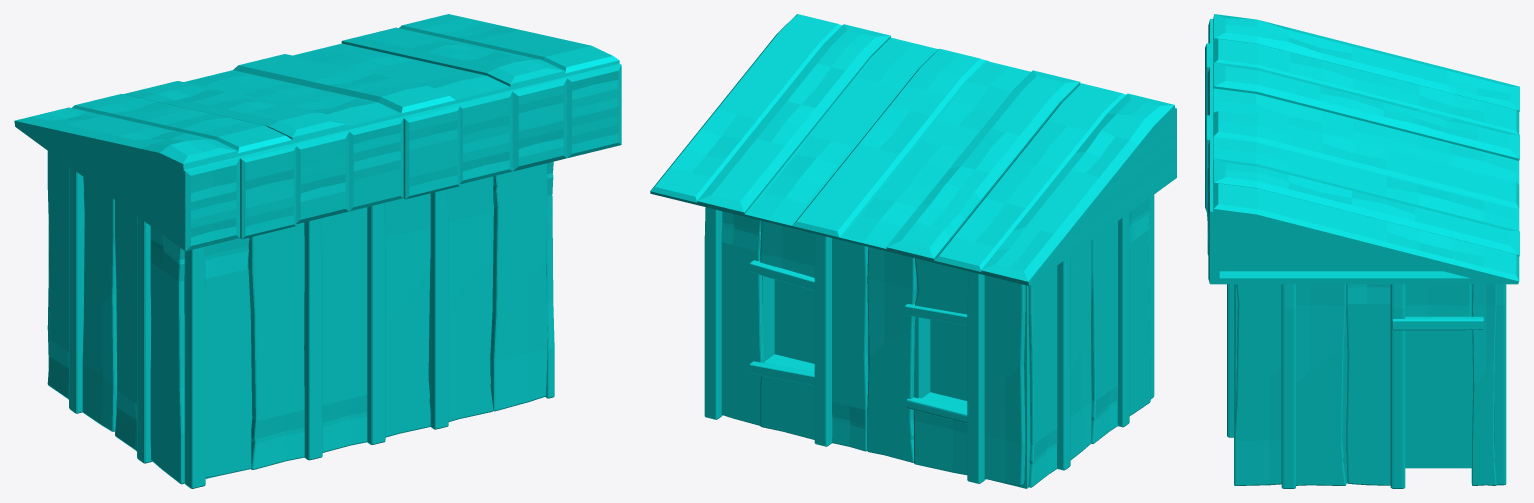
File: House_WoodHouse.fbx
The picture shows the model from 3 angles, left to right: view 1: azimuth 30°, elevation 25°; view 2: azimuth 150°, elevation 25°; view 3: azimuth 270°, elevation 25°; orthographic projection. The views are drawn at different scales.
Visible parts, largest first — view 1: Wood_Plank_03; view 2: Wood_Plank_03; view 3: Wood_Plank_03.
Part boxes in pixels (box(x1,y1,x2,y2)): Wood_Plank_03: box(14, 14, 621, 488); Wood_Plank_03: box(650, 14, 1176, 488); Wood_Plank_03: box(1205, 14, 1519, 488).
Bounding box in the file's own units: 863 × 636 × 596.
